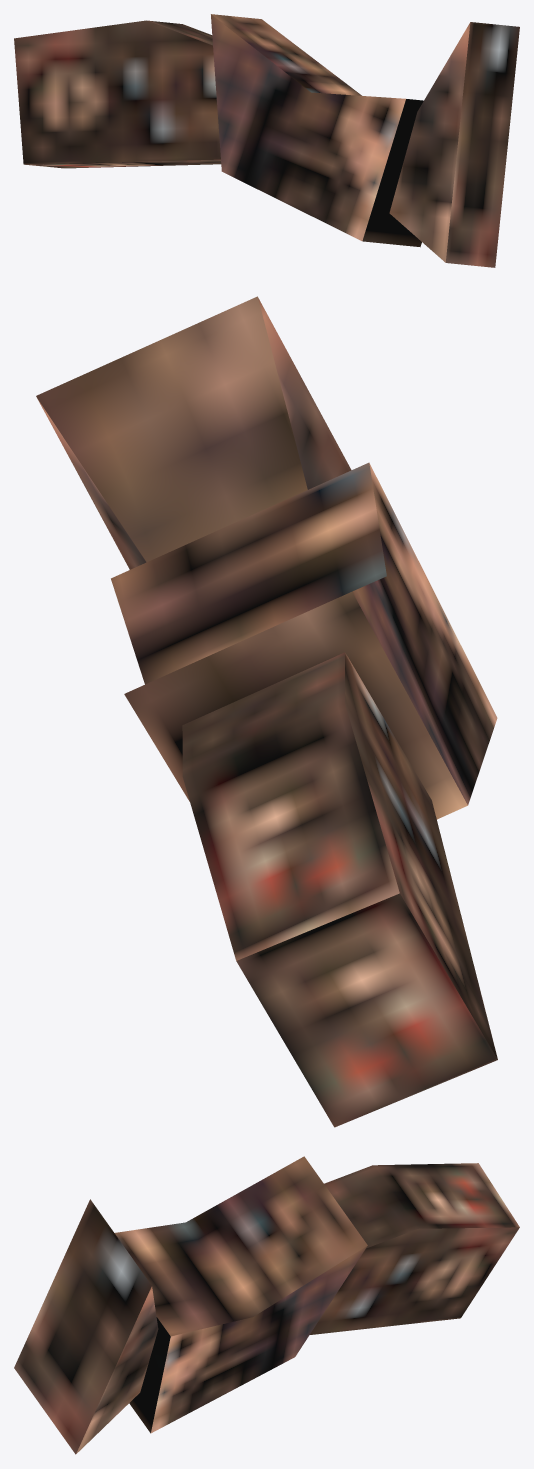
Rendered from mechpiece_leg1.glb.
3 views of the same model, one above another, from view 1: azimuth 30°, elevation 25°; view 2: azimuth 150°, elevation 25°; view 3: azimuth 270°, elevation 25° (orthographic). The views are drawn at different scales.
Parts seen in each view (by area): view 1: Object02; view 2: Object02; view 3: Object02.
Boxes of the visible parts, x1=… form: Object02: x1=14, y1=14, x2=519, y2=267; Object02: x1=36, y1=296, x2=497, y2=1127; Object02: x1=14, y1=1156, x2=519, y2=1454.
Bounding box in the file's own units: 6.65 × 4.28 × 7.95.
1 material, 1 textured.
